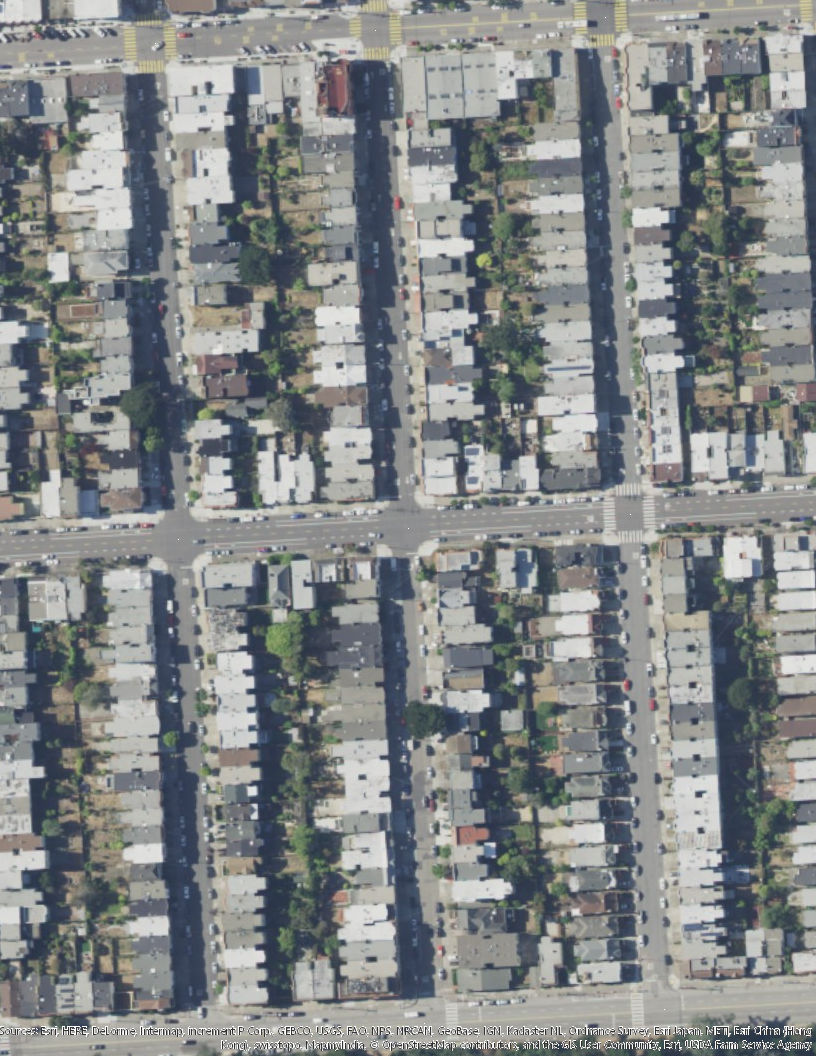zebracross: (571, 3, 590, 36), (122, 26, 138, 62), (161, 23, 178, 56), (614, 480, 645, 498), (601, 497, 617, 531), (641, 495, 657, 528), (389, 12, 404, 45), (444, 1000, 461, 1029), (613, 1, 628, 33), (631, 993, 644, 1028), (135, 60, 167, 74), (363, 47, 391, 61), (589, 34, 617, 48), (620, 530, 647, 544), (798, 1, 816, 21), (136, 12, 161, 26), (350, 12, 362, 37), (362, 1, 386, 12)
